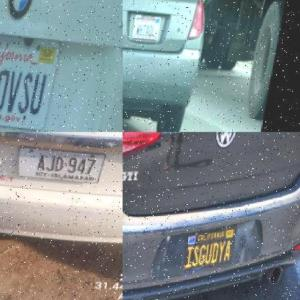Plate: (0, 26, 62, 132), (7, 137, 117, 195), (184, 221, 242, 280), (132, 13, 166, 46)
